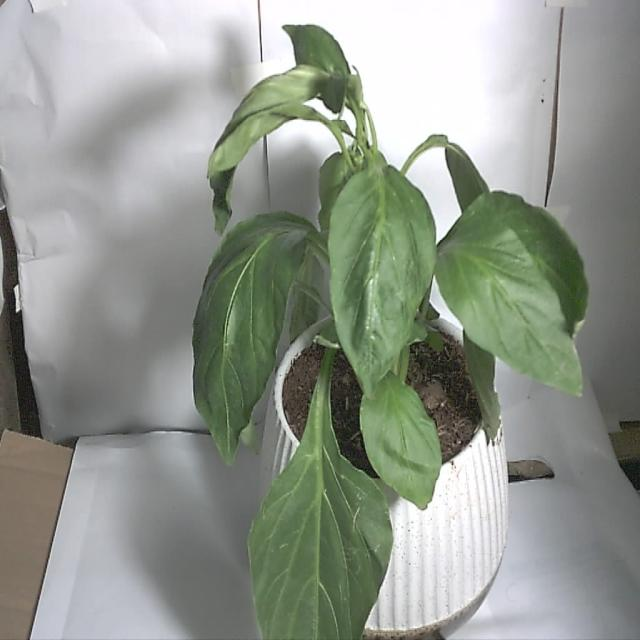Leaf: (189, 203, 330, 464), (433, 184, 589, 400), (243, 417, 393, 640), (324, 159, 438, 397)
